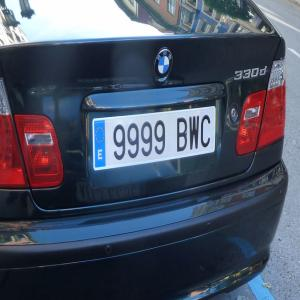Vehicle-registration-plate: (89, 93, 227, 185)
